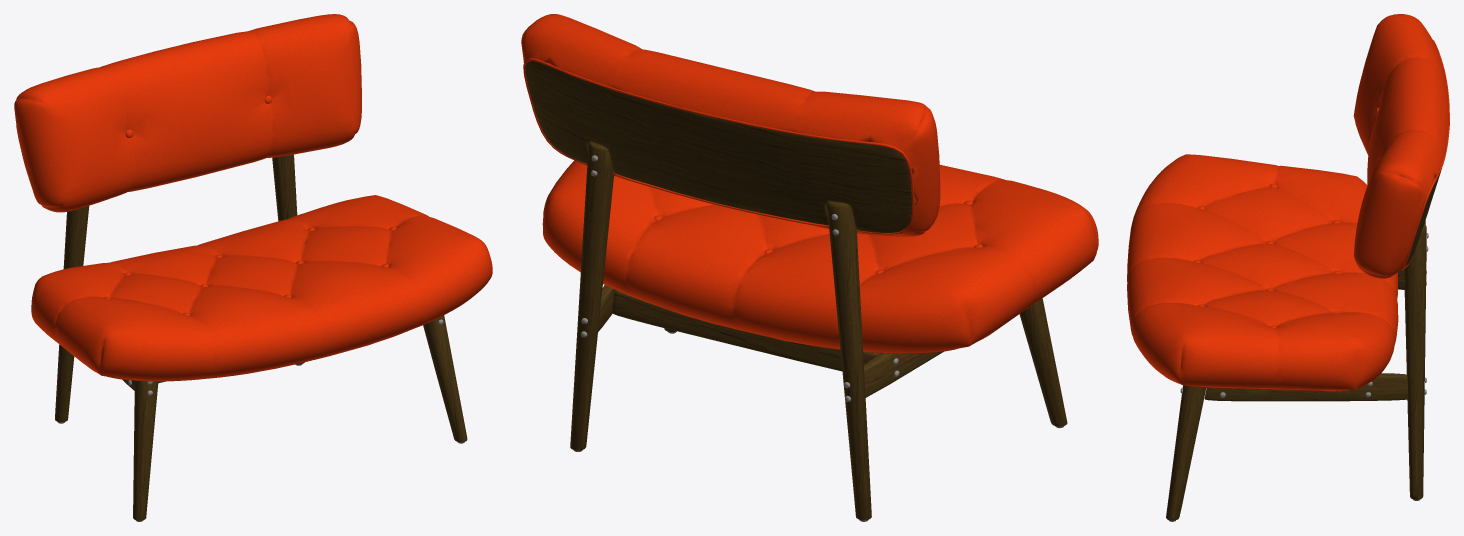
The model's file is chair-accent.glb.
3 views of the same model, side by side, from view 1: azimuth 30°, elevation 25°; view 2: azimuth 150°, elevation 25°; view 3: azimuth 270°, elevation 25° (orthographic). The views are drawn at different scales.
Visible parts, largest first — view 1: SheenChair_fabric, SheenChair_wood; view 2: SheenChair_fabric, SheenChair_wood; view 3: SheenChair_fabric, SheenChair_wood.
Boxes of the visible parts, x1,y1,x2,y2 form: SheenChair_fabric: (14,14,492,381); SheenChair_wood: (55,154,467,520); SheenChair_fabric: (521,14,1098,353); SheenChair_wood: (525,61,1067,520); SheenChair_fabric: (1127,14,1449,391); SheenChair_wood: (1166,169,1441,520).
Bounding box in the file's own units: 0.8266 × 0.6861 × 0.5699.
Materials: 4 (3 with a texture image).
